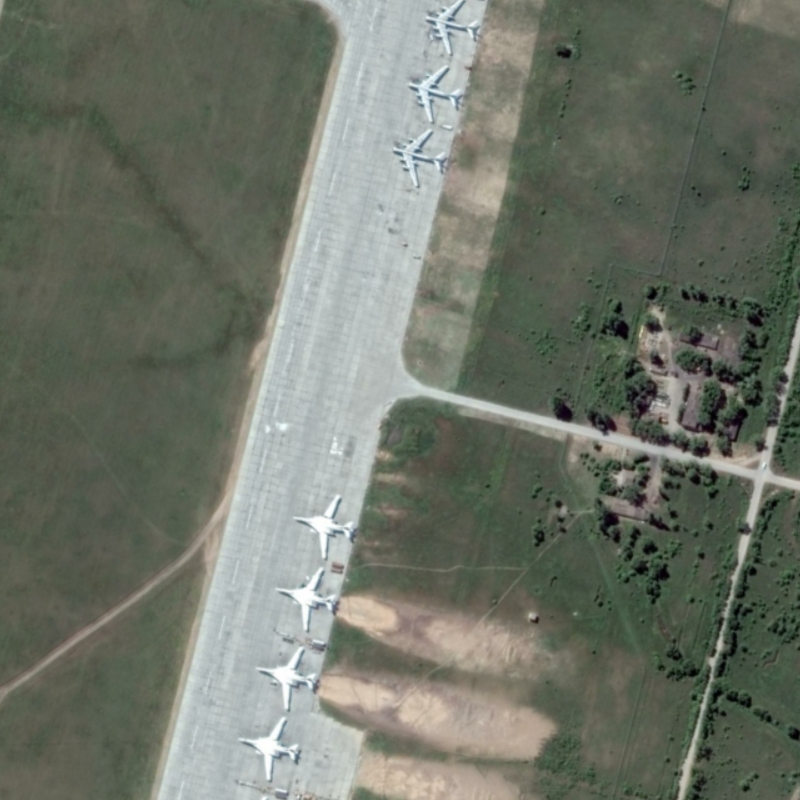A17: (389, 126, 449, 192), (405, 63, 468, 125), (421, 2, 485, 58)
A6: (289, 491, 361, 562), (234, 712, 306, 783), (271, 564, 342, 635), (250, 643, 322, 712)
